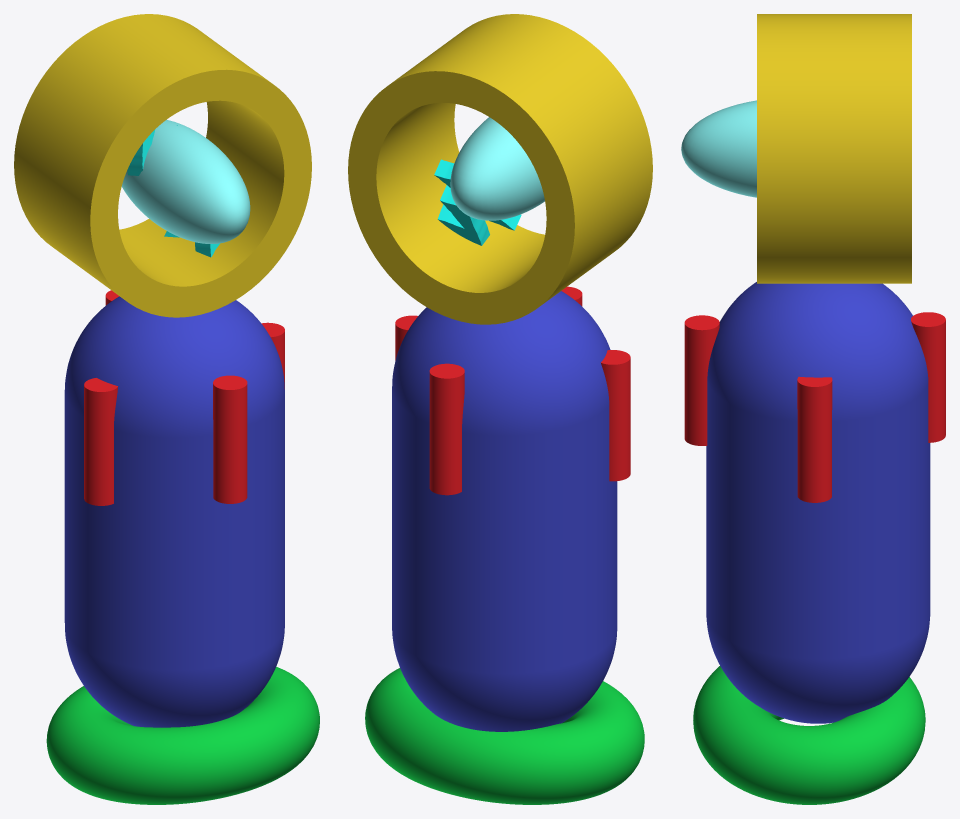
The model's file is awes.fbx.
3 renders of one model, left to right at view 1: azimuth 30°, elevation 25°; view 2: azimuth 150°, elevation 25°; view 3: azimuth 270°, elevation 25°, orthographic. The views are drawn at different scales.
Parts seen in each view (by area): view 1: root (×6); view 2: root (×7); view 3: root (×7).
Part boxes in pixels (bbox=[...]): root (×6): bbox=[14, 14, 319, 804]; root (×7): bbox=[348, 14, 652, 804]; root (×7): bbox=[681, 14, 945, 804].
Size of the model in its own units: 0.1605 by 0.4411 by 0.1456.
Materials: 6 (2 with a texture image).
